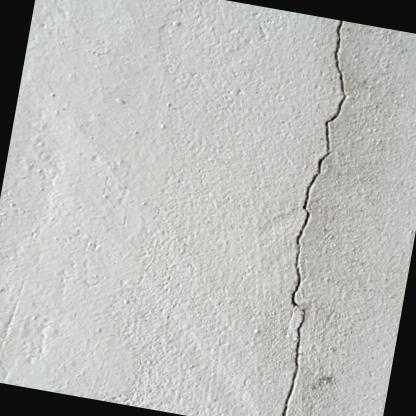crack: (280, 20, 345, 416)
